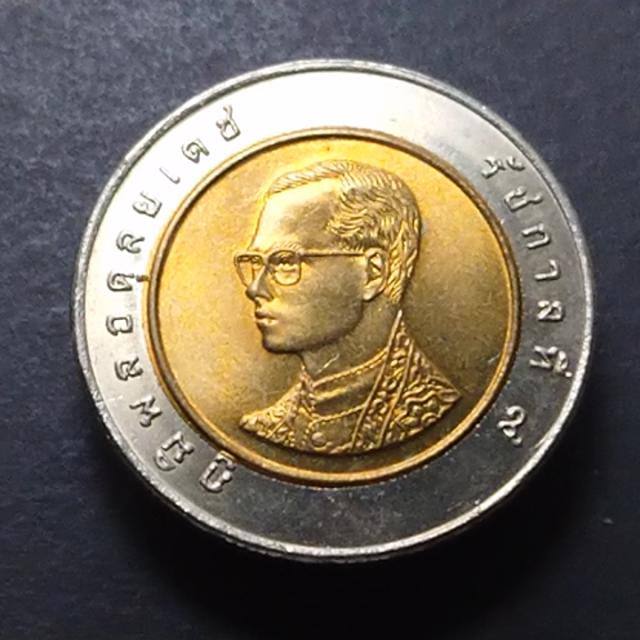10 Bath: (69, 56, 601, 576)
